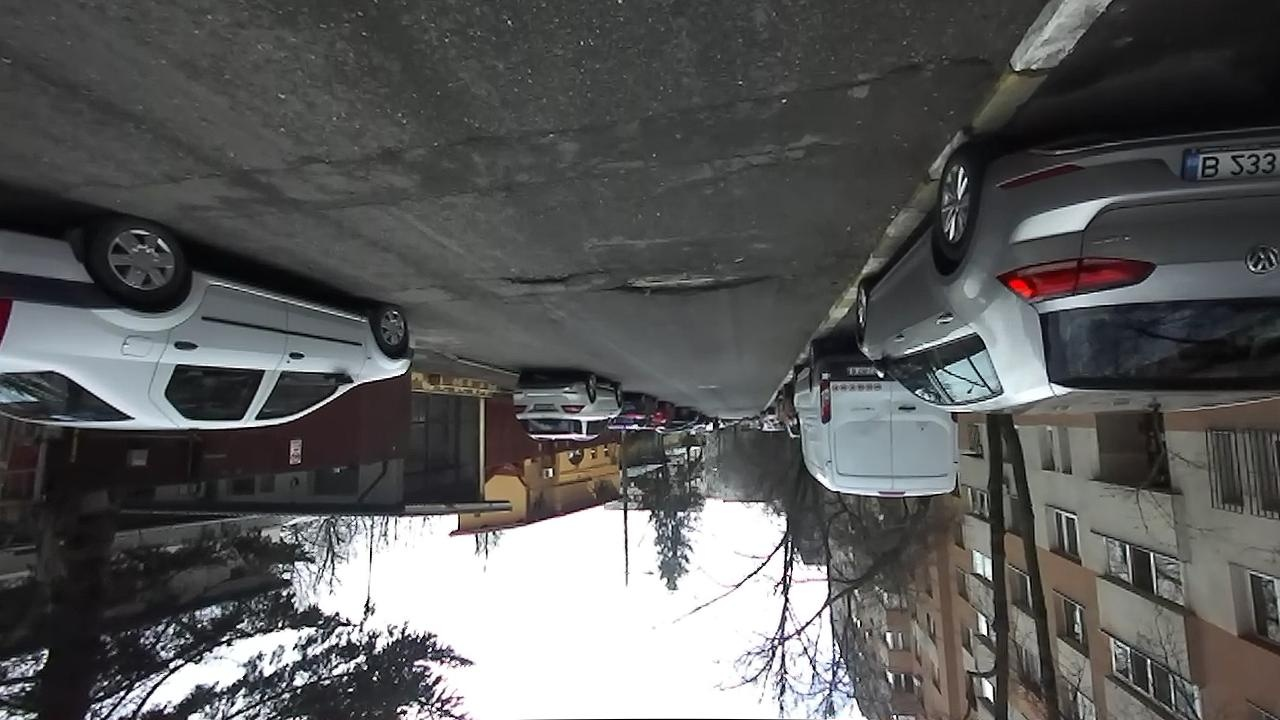pothole: (817, 44, 986, 97), (605, 264, 778, 301), (497, 270, 582, 287)
